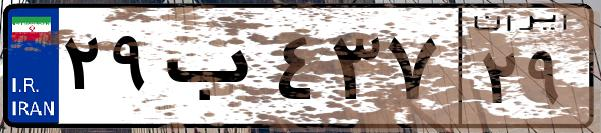2: (57, 26, 110, 100), (475, 38, 525, 113)
3: (330, 28, 385, 110)
4: (270, 28, 330, 110)
7: (385, 28, 445, 110)
9: (525, 38, 570, 115), (110, 28, 158, 98)
ب: (158, 20, 270, 120)
